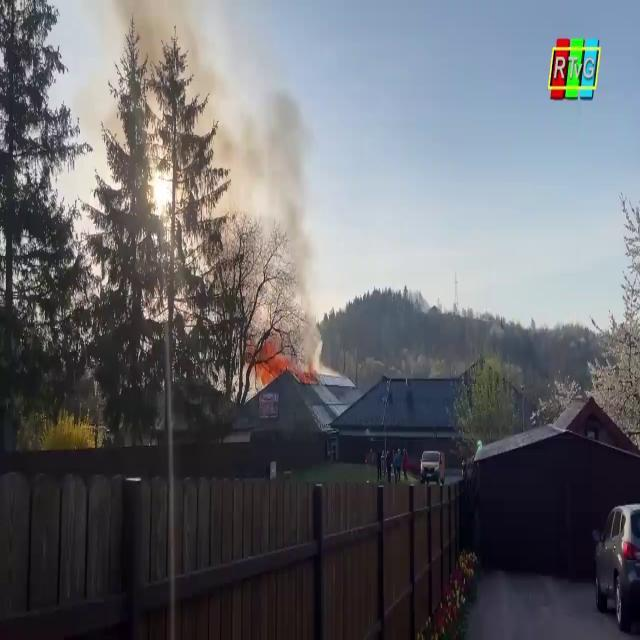Smoke: (234, 48, 334, 370)
